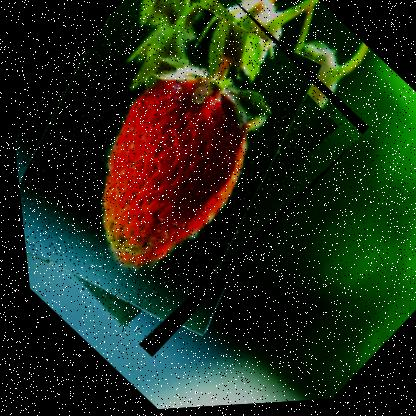strawberry: (0, 0, 384, 366)
